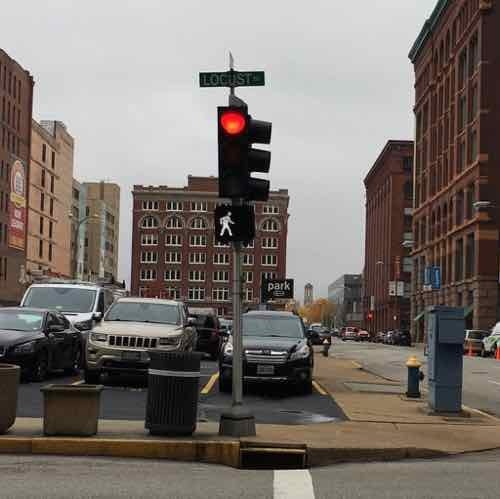pedestrian_walk: (213, 205, 257, 245)
